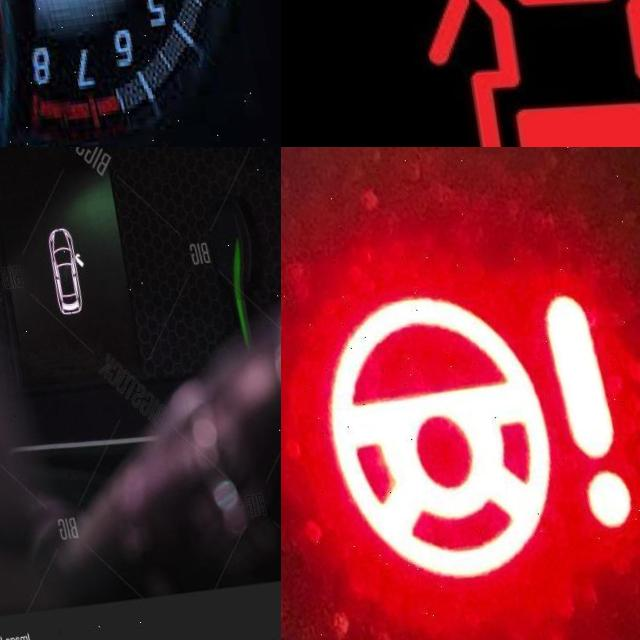Electronic Power Steering Warning: (296, 287, 620, 597)
